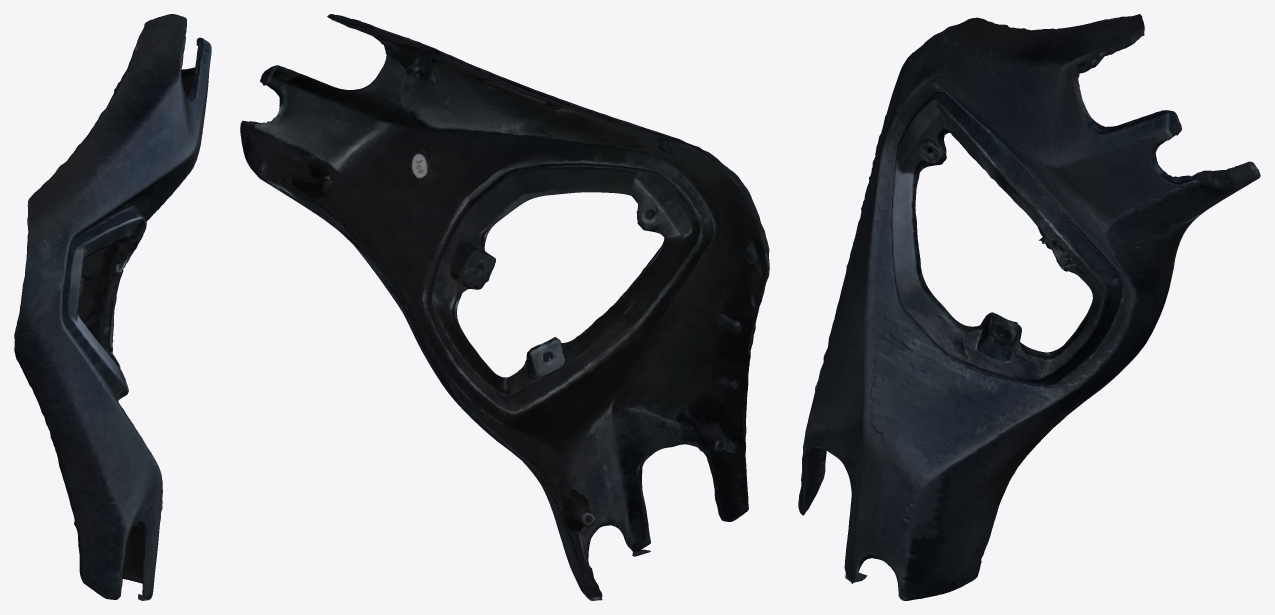
File: SPD-46513X-B.obj
3 views of the same model, side by side, from view 1: azimuth 30°, elevation 25°; view 2: azimuth 150°, elevation 25°; view 3: azimuth 270°, elevation 25° (orthographic). The views are drawn at different scales.
Visible parts, largest first — view 1: SPD-46513X-B; view 2: SPD-46513X-B; view 3: SPD-46513X-B.
Part boxes in pixels (bbox=[...]): SPD-46513X-B: bbox=[14, 14, 211, 600]; SPD-46513X-B: bbox=[240, 14, 769, 600]; SPD-46513X-B: bbox=[798, 14, 1260, 600].
Bounding box in the file's own units: 244 × 364 × 236.
1 material, 1 textured.
